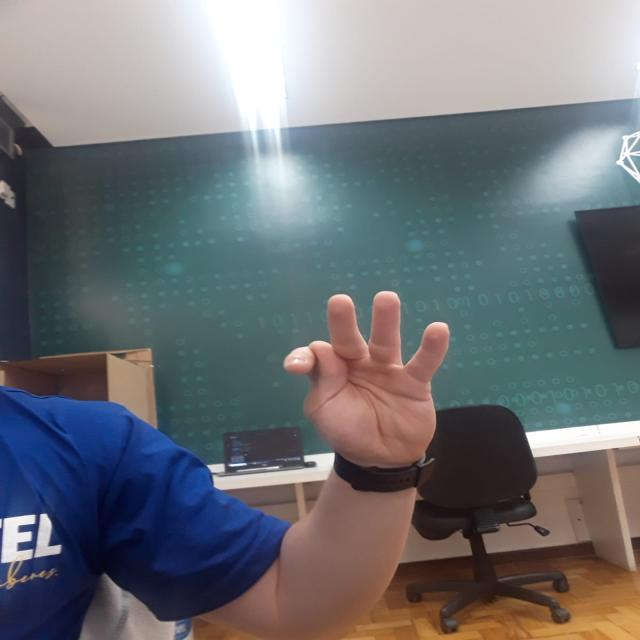T: (280, 280, 456, 456)
